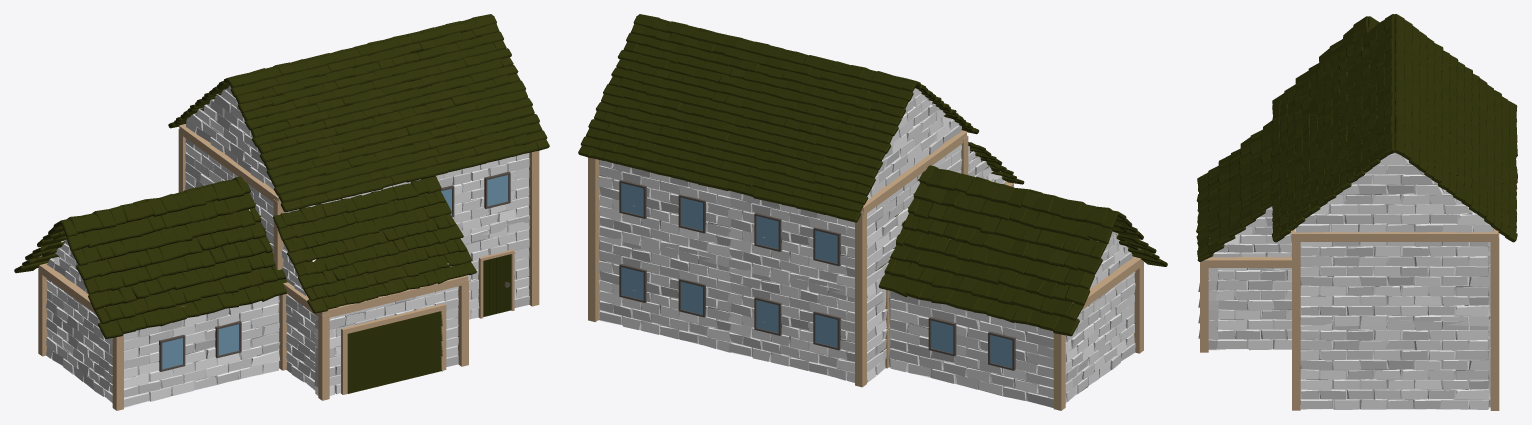
File: HouseF.fbx
3 views of the same model, side by side, from view 1: azimuth 30°, elevation 25°; view 2: azimuth 150°, elevation 25°; view 3: azimuth 270°, elevation 25° (orthographic). The views are drawn at different scales.
Parts seen in each view (by area): view 1: Plane.005, Plane.002, Cube.031, Cube.037, Cube.025, Cube.051, Cube.014, Cube.010, Cylinder, Cube.039, Cube.104, Cube.108 (+28 smaller); view 2: Plane.005, Cube.024, Cube.012, Cube.038, Cube.042, Cube.051, Cube.039, Cube.094, Cube.098, Cube.102, Cube.026, Cube.100 (+32 smaller); view 3: Plane.005, Cube.027, Cube.040, Cube.049, Plane.002, Cube.028, Cube.022, Cube.030, Cube.023, Cube.008, Cube.025, Cube.036 (+3 smaller).
Part boxes in pixels (x1=…): Plane.005: x1=168, y1=14, x2=549, y2=212; Plane.002: x1=273, y1=176, x2=476, y2=313; Cube.031: x1=341, y1=303, x2=446, y2=394; Cube.037: x1=405, y1=153, x2=529, y2=238; Cube.025: x1=314, y1=286, x2=458, y2=395; Cube.051: x1=186, y1=85, x2=274, y2=189; Cube.014: x1=460, y1=217, x2=529, y2=319; Cube.010: x1=286, y1=294, x2=317, y2=390; Cylinder: x1=475, y1=249, x2=514, y2=318; Cube.039: x1=185, y1=138, x2=273, y2=253; Cube.104: x1=124, y1=350, x2=280, y2=398; Cube.108: x1=124, y1=361, x2=279, y2=407; Plane.005: x1=578, y1=14, x2=978, y2=222; Cube.024: x1=598, y1=231, x2=736, y2=352; Cube.012: x1=727, y1=267, x2=854, y2=382; Cube.038: x1=598, y1=160, x2=736, y2=267; Cube.042: x1=727, y1=191, x2=854, y2=298; Cube.051: x1=867, y1=88, x2=961, y2=200; Cube.039: x1=867, y1=144, x2=962, y2=297; Cube.094: x1=889, y1=348, x2=1053, y2=397; Cube.098: x1=890, y1=358, x2=1053, y2=407; Cube.102: x1=889, y1=298, x2=1053, y2=348; Cube.026: x1=867, y1=286, x2=888, y2=382; Cube.100: x1=890, y1=338, x2=1053, y2=388; Plane.005: x1=1271, y1=14, x2=1517, y2=242; Cube.027: x1=1300, y1=319, x2=1490, y2=409; Cube.040: x1=1300, y1=242, x2=1490, y2=326; Cube.049: x1=1294, y1=152, x2=1493, y2=232; Plane.002: x1=1196, y1=119, x2=1273, y2=261; Cube.028: x1=1215, y1=268, x2=1291, y2=350; Cube.022: x1=1293, y1=230, x2=1497, y2=241; Cube.030: x1=1209, y1=206, x2=1291, y2=257; Cube.023: x1=1200, y1=256, x2=1291, y2=267; Cube.008: x1=1490, y1=322, x2=1499, y2=410; Cube.025: x1=1208, y1=268, x2=1219, y2=350; Cube.036: x1=1490, y1=234, x2=1499, y2=322.
Bounding box in the file's own units: 1049 × 572 × 629.
